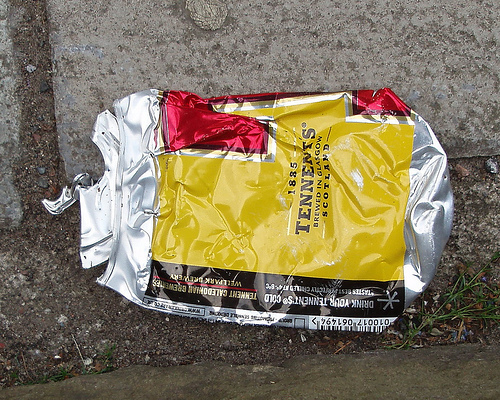litter: (41, 85, 456, 334)
